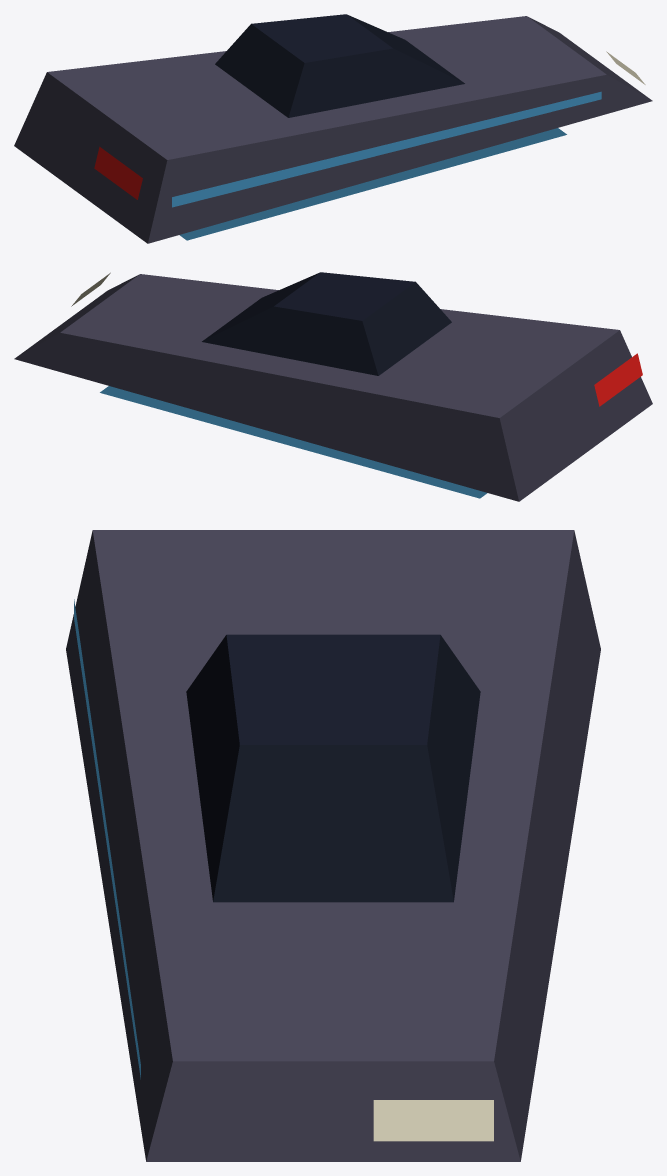
File: flying_car.glb
3 views of the same model, one above another, from view 1: azimuth 30°, elevation 25°; view 2: azimuth 150°, elevation 25°; view 3: azimuth 270°, elevation 25° (orthographic). The views are drawn at different scales.
Visible parts, largest first — view 1: flying_car; view 2: flying_car; view 3: flying_car.
Boxes of the visible parts, x1=… form: flying_car: x1=14, y1=14, x2=652, y2=243; flying_car: x1=14, y1=272, x2=652, y2=501; flying_car: x1=66, y1=530, x2=600, y2=1161.
Size of the model in its own units: 3.4 by 0.76 by 1.5.
